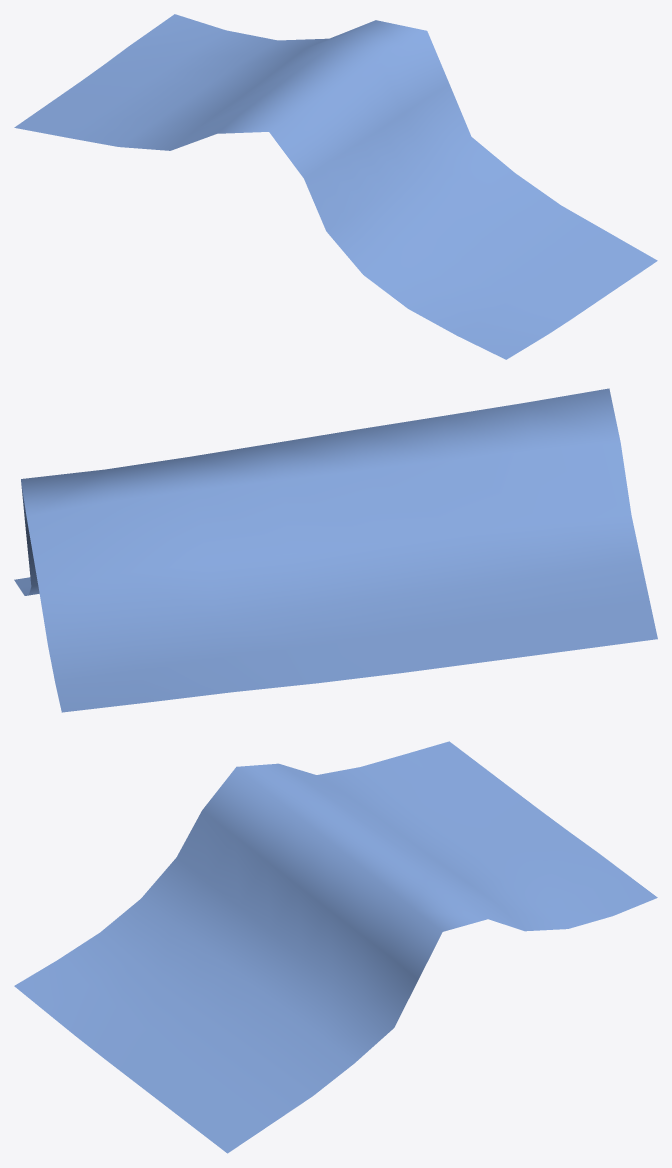
Rendered from EsparadrapoEnPiel1.fbx.
3 renders of one model, top to bottom at view 1: azimuth 30°, elevation 25°; view 2: azimuth 150°, elevation 25°; view 3: azimuth 270°, elevation 25°, orthographic. The views are drawn at different scales.
Visible parts, largest first — view 1: polySurface43; view 2: polySurface43; view 3: polySurface43.
Boxes of the visible parts, x1=… form: polySurface43: x1=14, y1=14, x2=657, y2=359; polySurface43: x1=14, y1=388, x2=657, y2=712; polySurface43: x1=14, y1=741, x2=657, y2=1153.
Bounding box in the file's own units: 0.0398 × 0.0158 × 0.0442.
